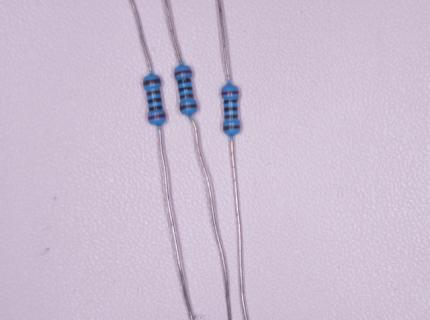Black band: (148, 97, 162, 104), (177, 78, 191, 84), (224, 107, 238, 112), (179, 87, 193, 92), (150, 106, 162, 111), (224, 99, 237, 103)
Brown band: (143, 78, 162, 85), (180, 104, 197, 111), (223, 125, 240, 131), (146, 90, 160, 95), (224, 114, 238, 119), (180, 94, 193, 99)
Red band: (174, 70, 192, 77), (148, 113, 165, 120), (221, 91, 239, 95)
